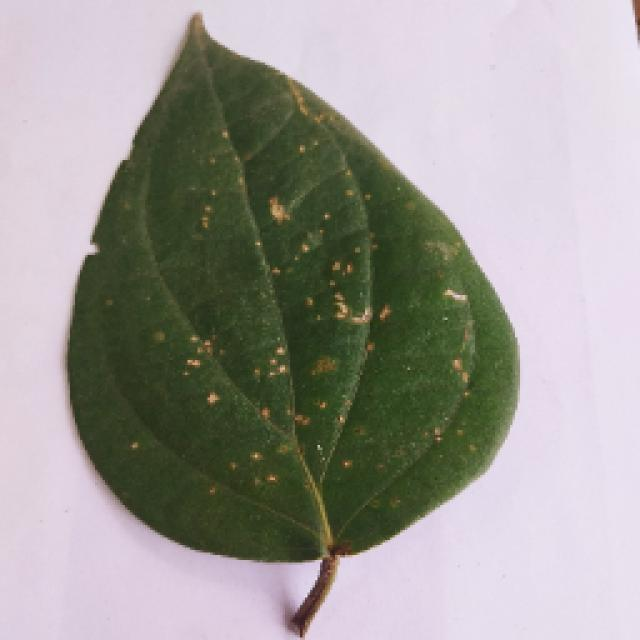pollu-disease: (55, 25, 540, 630)
